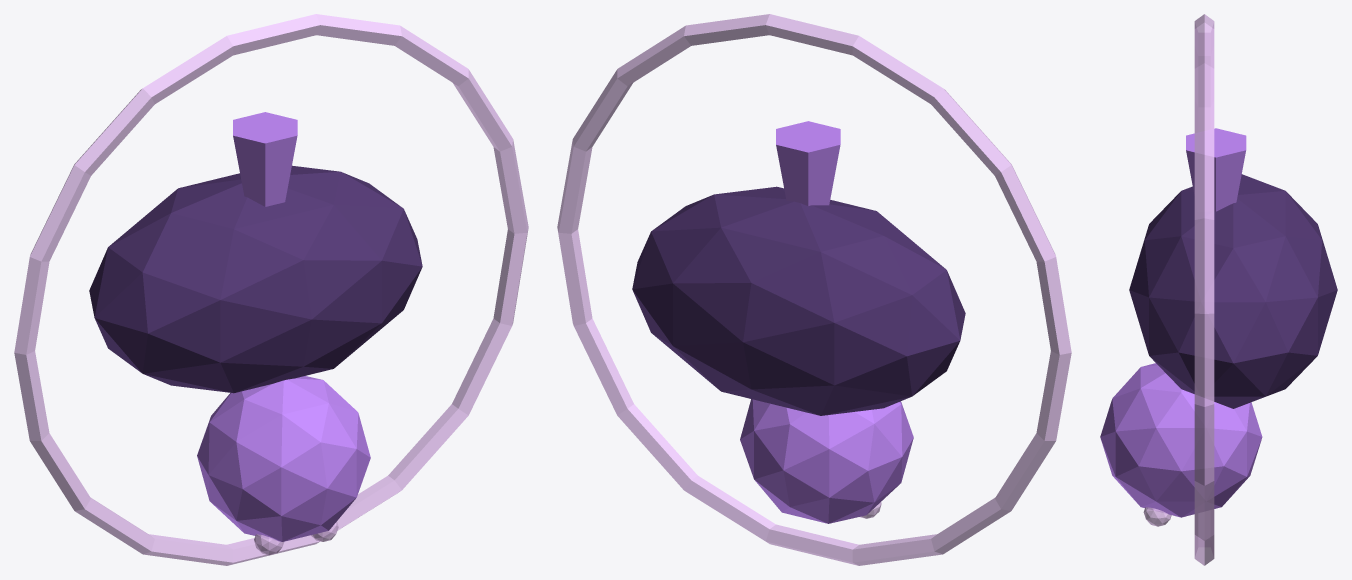
The model's file is 08_pet_companion_proc.glb.
3 renders of one model, left to right at view 1: azimuth 30°, elevation 25°; view 2: azimuth 150°, elevation 25°; view 3: azimuth 270°, elevation 25°, orthographic. The views are drawn at different scales.
Visible parts, largest first — view 1: pet_body, bonus_proc_ring, pet_head, tail_or_antenna; view 2: pet_body, bonus_proc_ring, pet_head, tail_or_antenna; view 3: pet_body, pet_head, bonus_proc_ring, tail_or_antenna, pet_eye_r.
Boxes of the visible parts, box(x1,y1,x2,y2) form: pet_body: box(89, 165, 422, 393); bonus_proc_ring: box(14, 14, 528, 565); pet_head: box(197, 376, 370, 541); tail_or_antenna: box(233, 112, 297, 206); pet_body: box(632, 186, 965, 415); bonus_proc_ring: box(557, 14, 1071, 565); pet_head: box(740, 399, 913, 523); tail_or_antenna: box(776, 121, 840, 206); pet_body: box(1129, 174, 1337, 408); pet_head: box(1100, 363, 1262, 517); bonus_proc_ring: box(1194, 14, 1214, 565); tail_or_antenna: box(1186, 128, 1246, 211); pet_eye_r: box(1143, 507, 1171, 526).
Size of the model in its own units: 0.956 by 0.9415 by 0.41.
